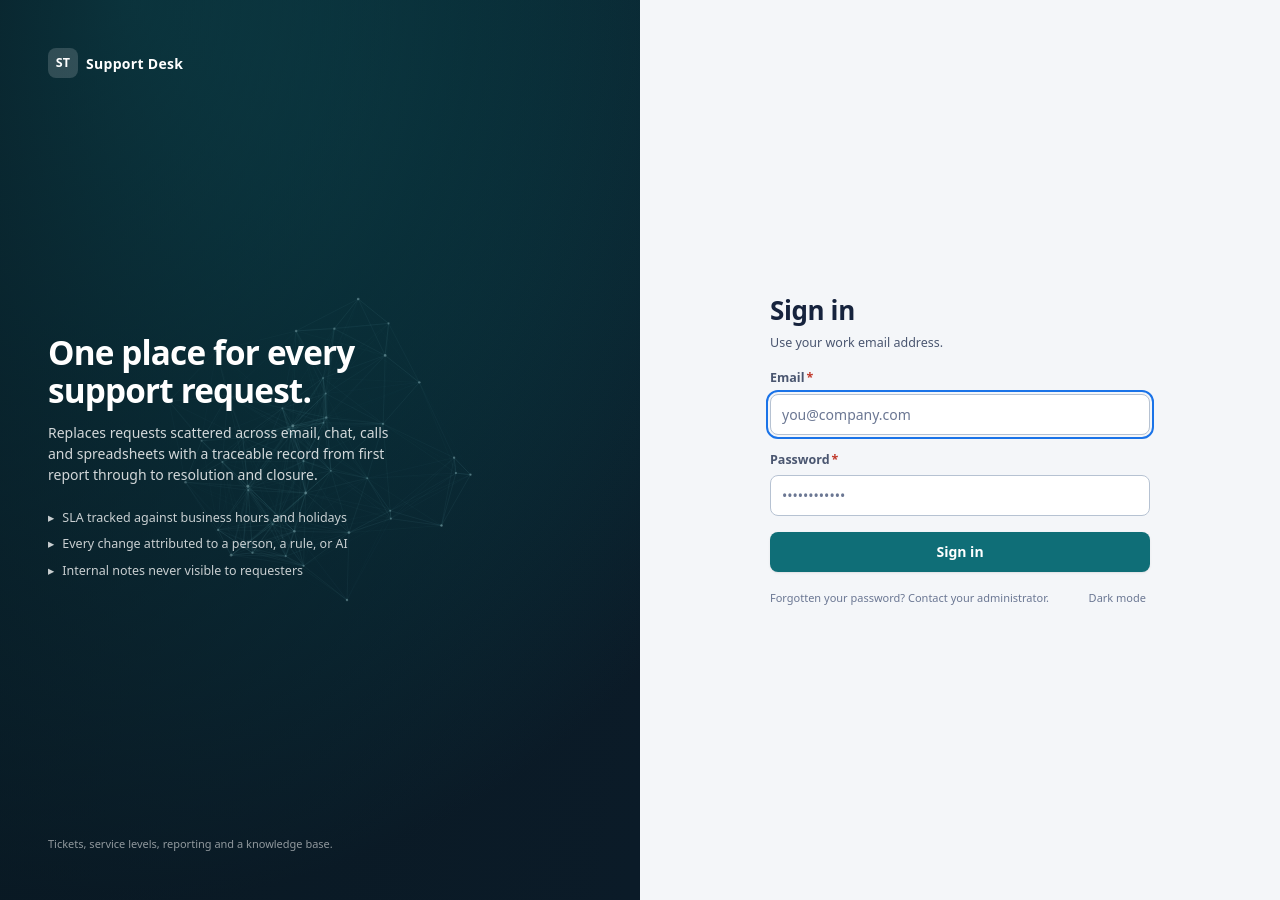
Test: LoginPage › reveals the verification code field only when the server asks for it
The image size is (1280, 900).
Expected: the field labelled "verification code" is not shown
Type "superadmin@itg.test" into the field labelled "Email*". click: (960, 414)
box: [770,394,1150,435]
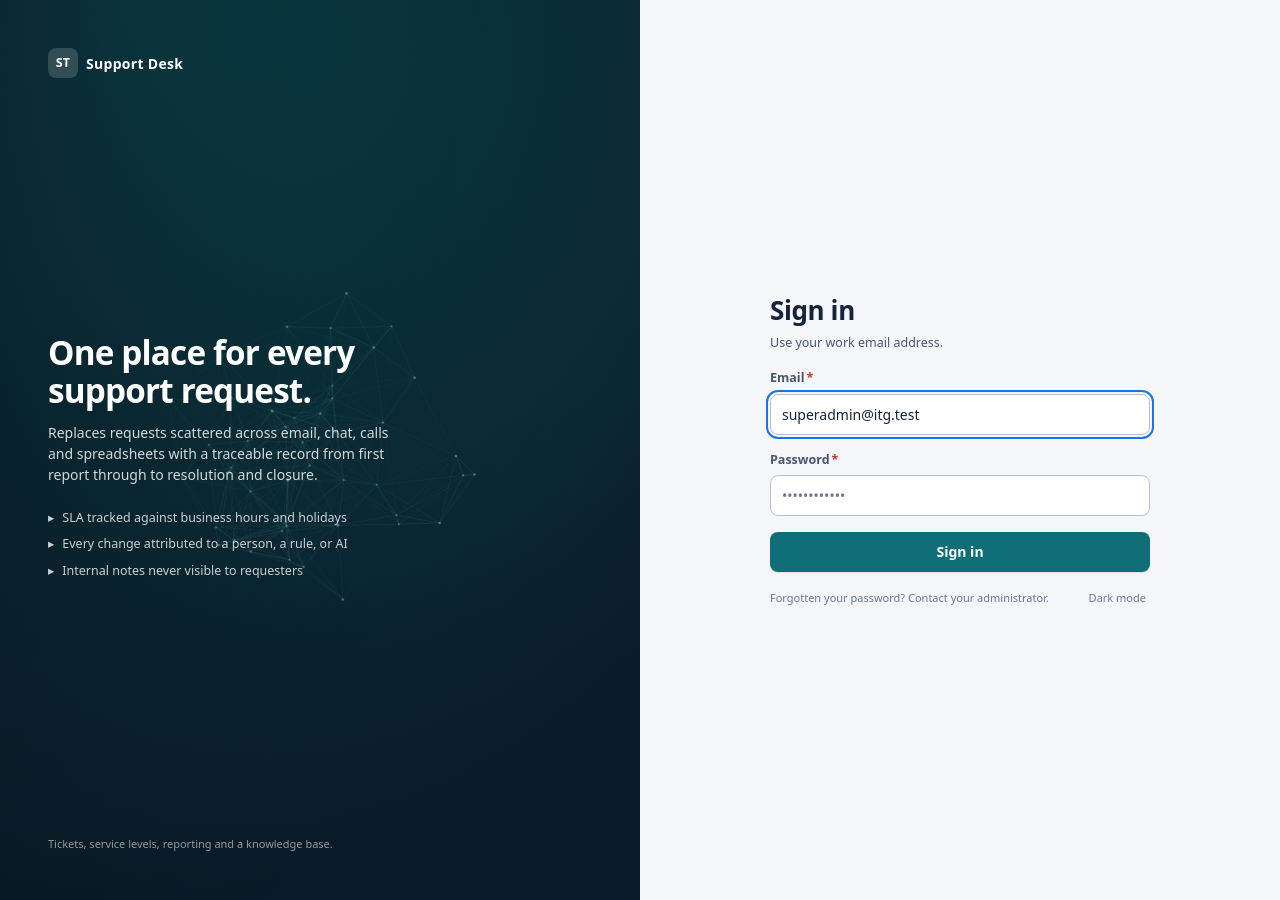
Type "CorrectPassword1!" into the password field labelled "Password*". click: (960, 496)
box: [770,475,1150,516]
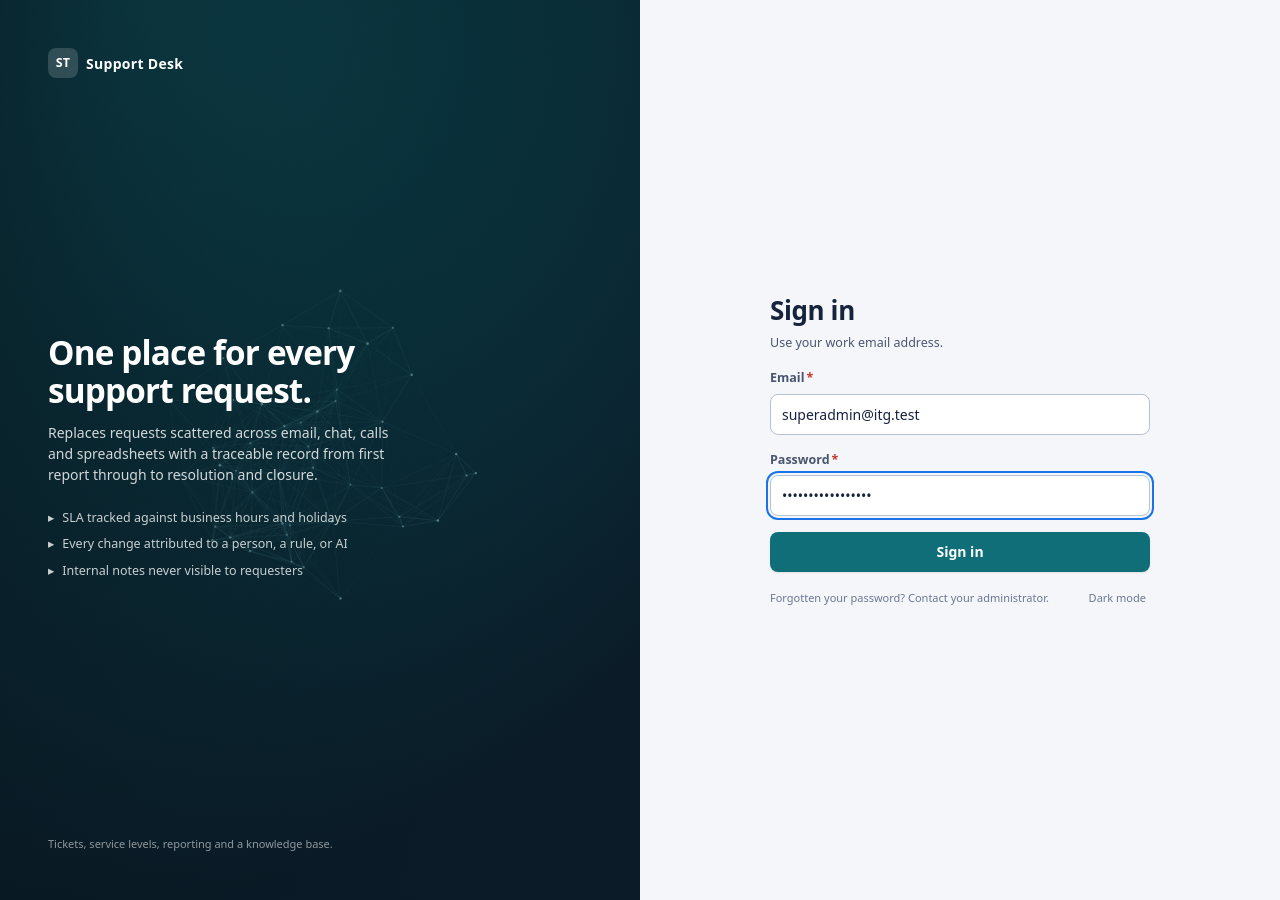
Click the button "Sign in". click: (960, 552)
box: [770,532,1150,572]
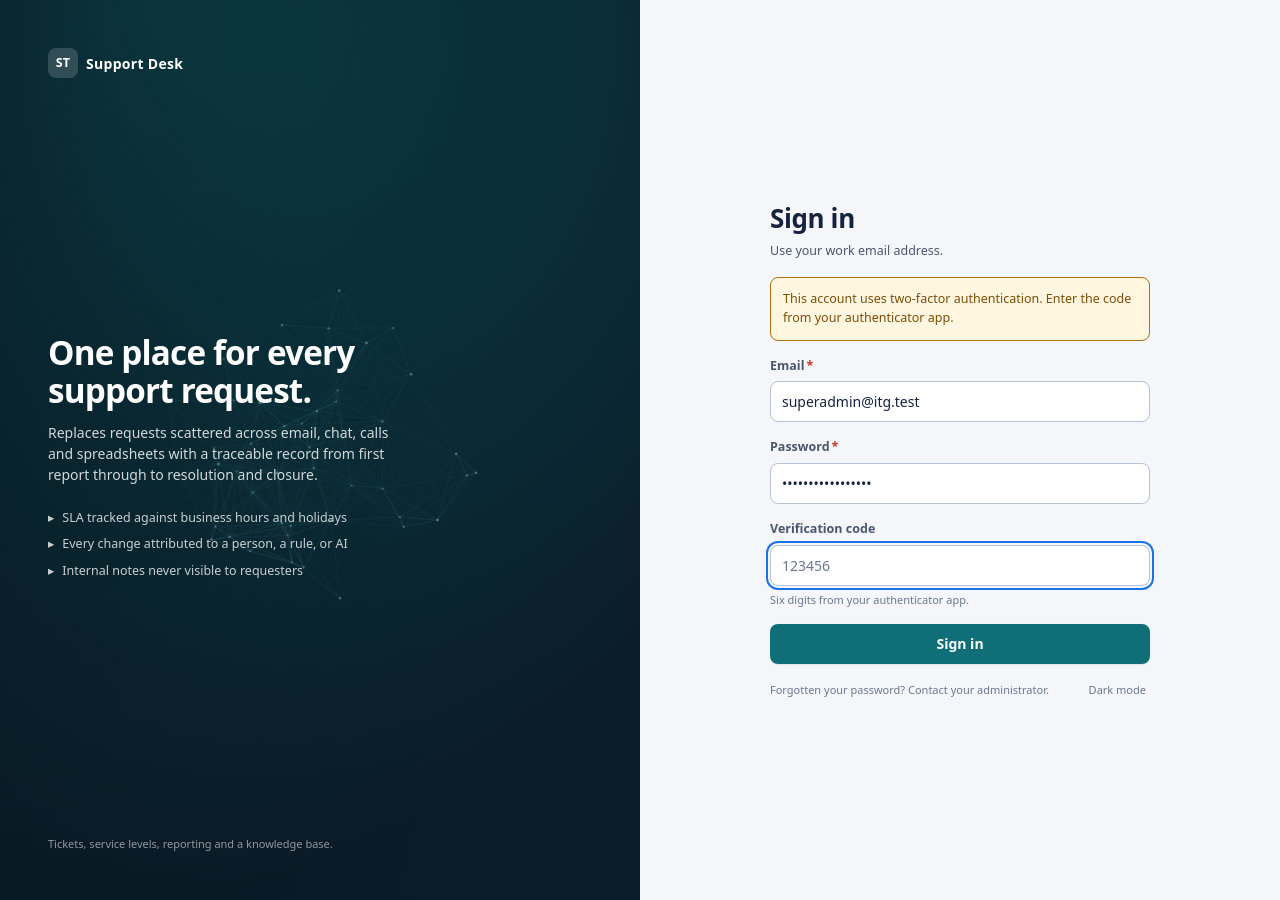
Result: the field labelled "Verification code" is shown at [770,545,1150,586]
